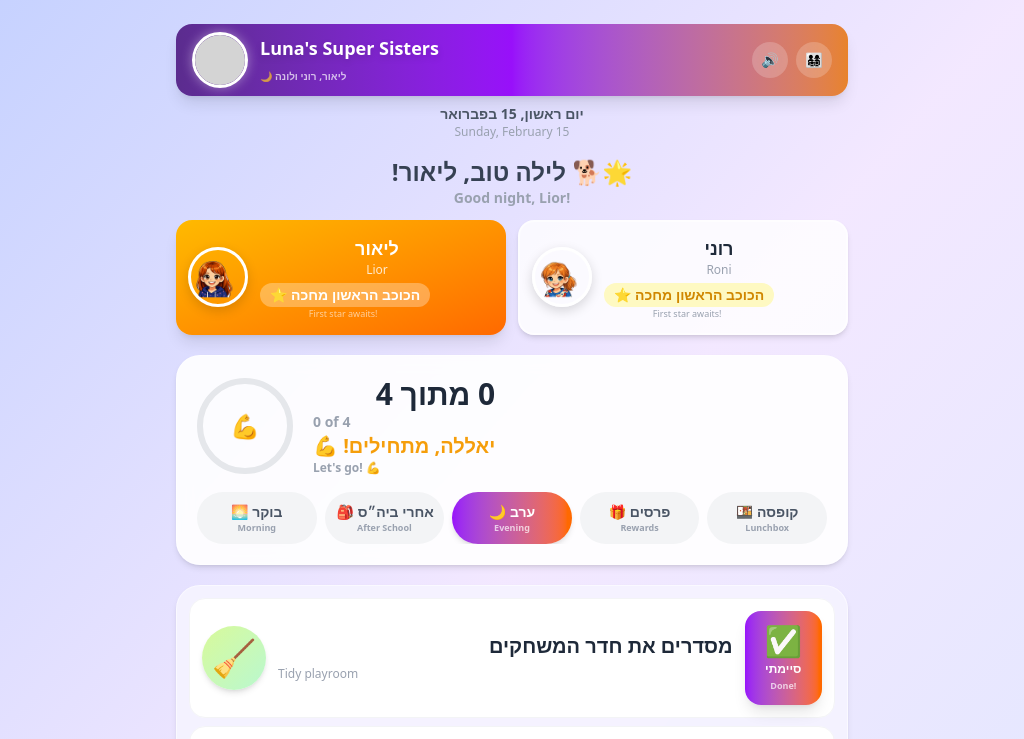
Test: App › stays on current view after correct PIN (unlocks parent mode)
Click the button titled "הורים".
click(814, 60)  # box [796, 42, 832, 78]
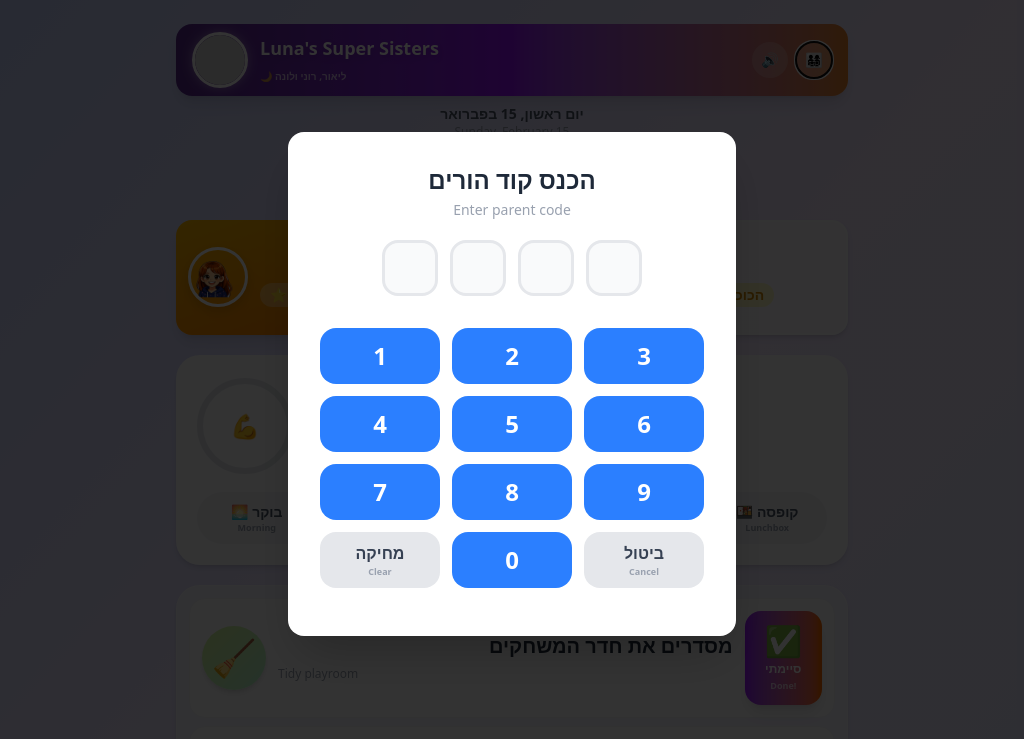
Click the button "1".
click(380, 356)  # box [320, 328, 440, 384]
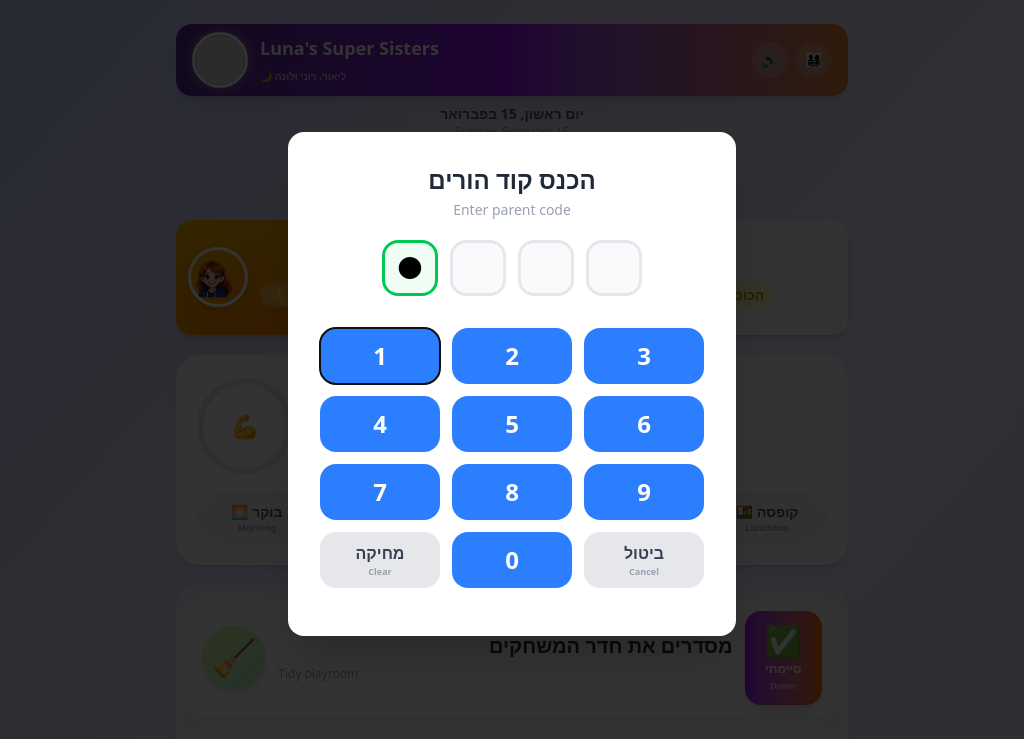
Click the button "2".
click(512, 356)  # box [452, 328, 572, 384]
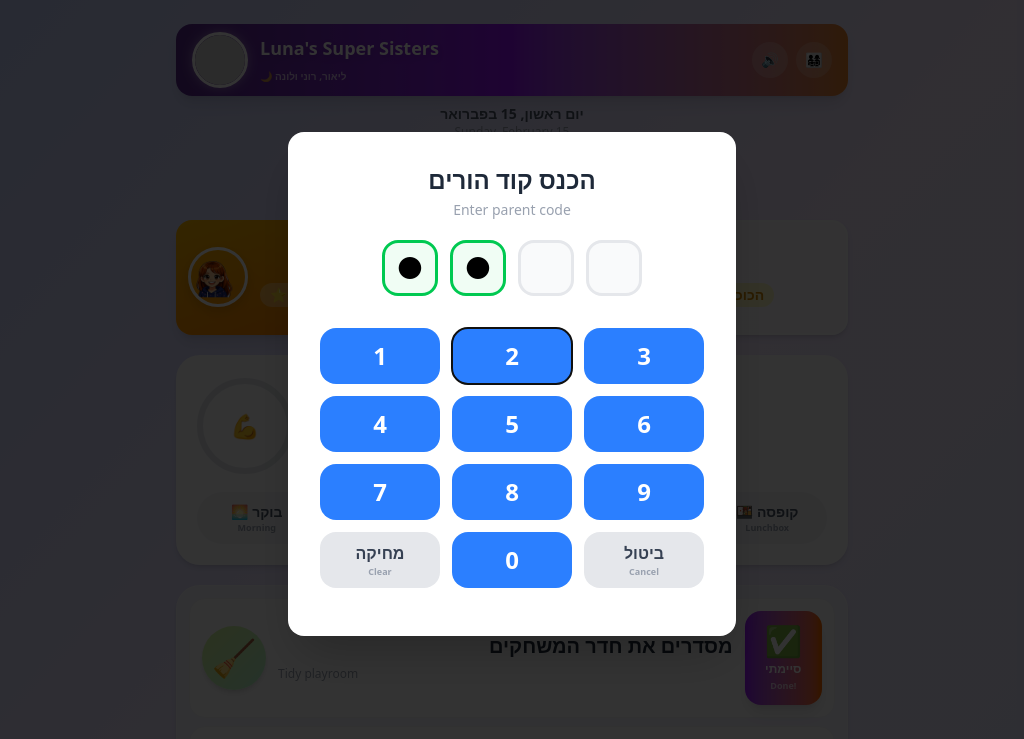
Click the button "3".
click(644, 356)  # box [584, 328, 704, 384]
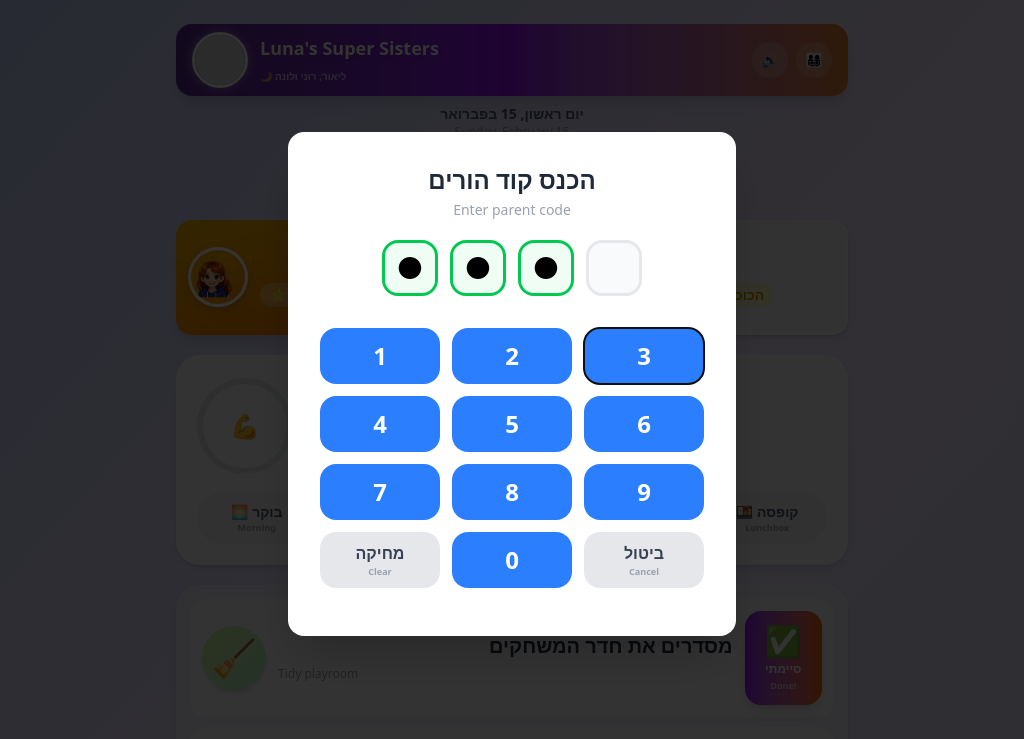
Click the button "4".
click(380, 424)  # box [320, 396, 440, 452]
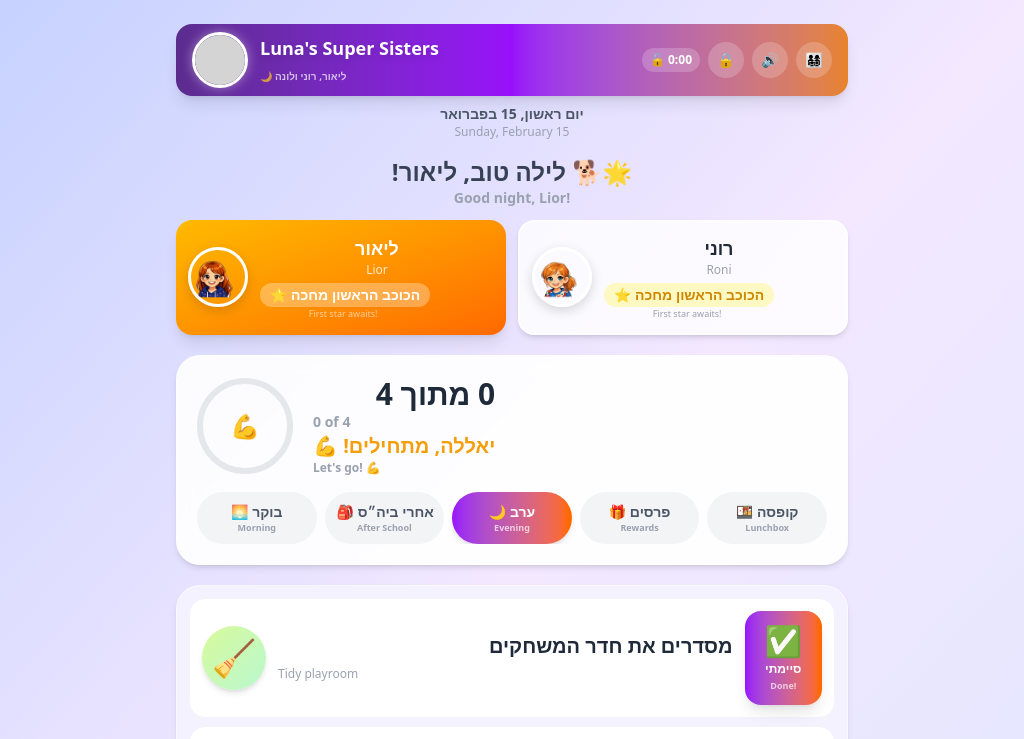
Expected: the text "🔓 0:00" is shown, [642, 48, 700, 72]
